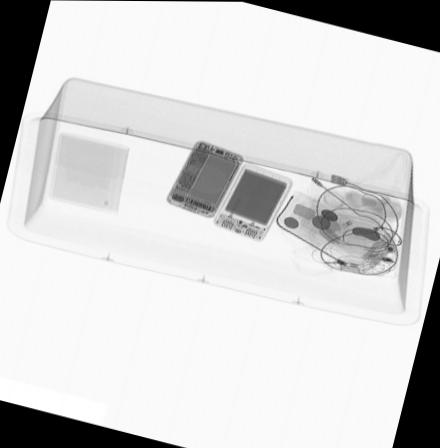Powerbank: (211, 160, 295, 241)
